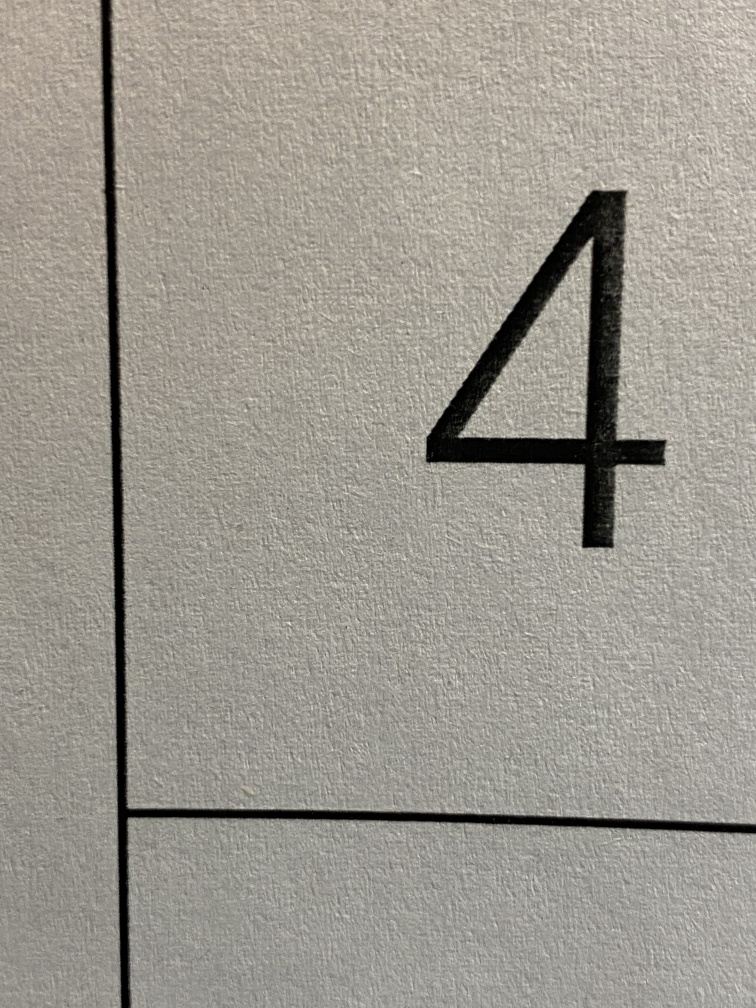four: (394, 136, 734, 600)
